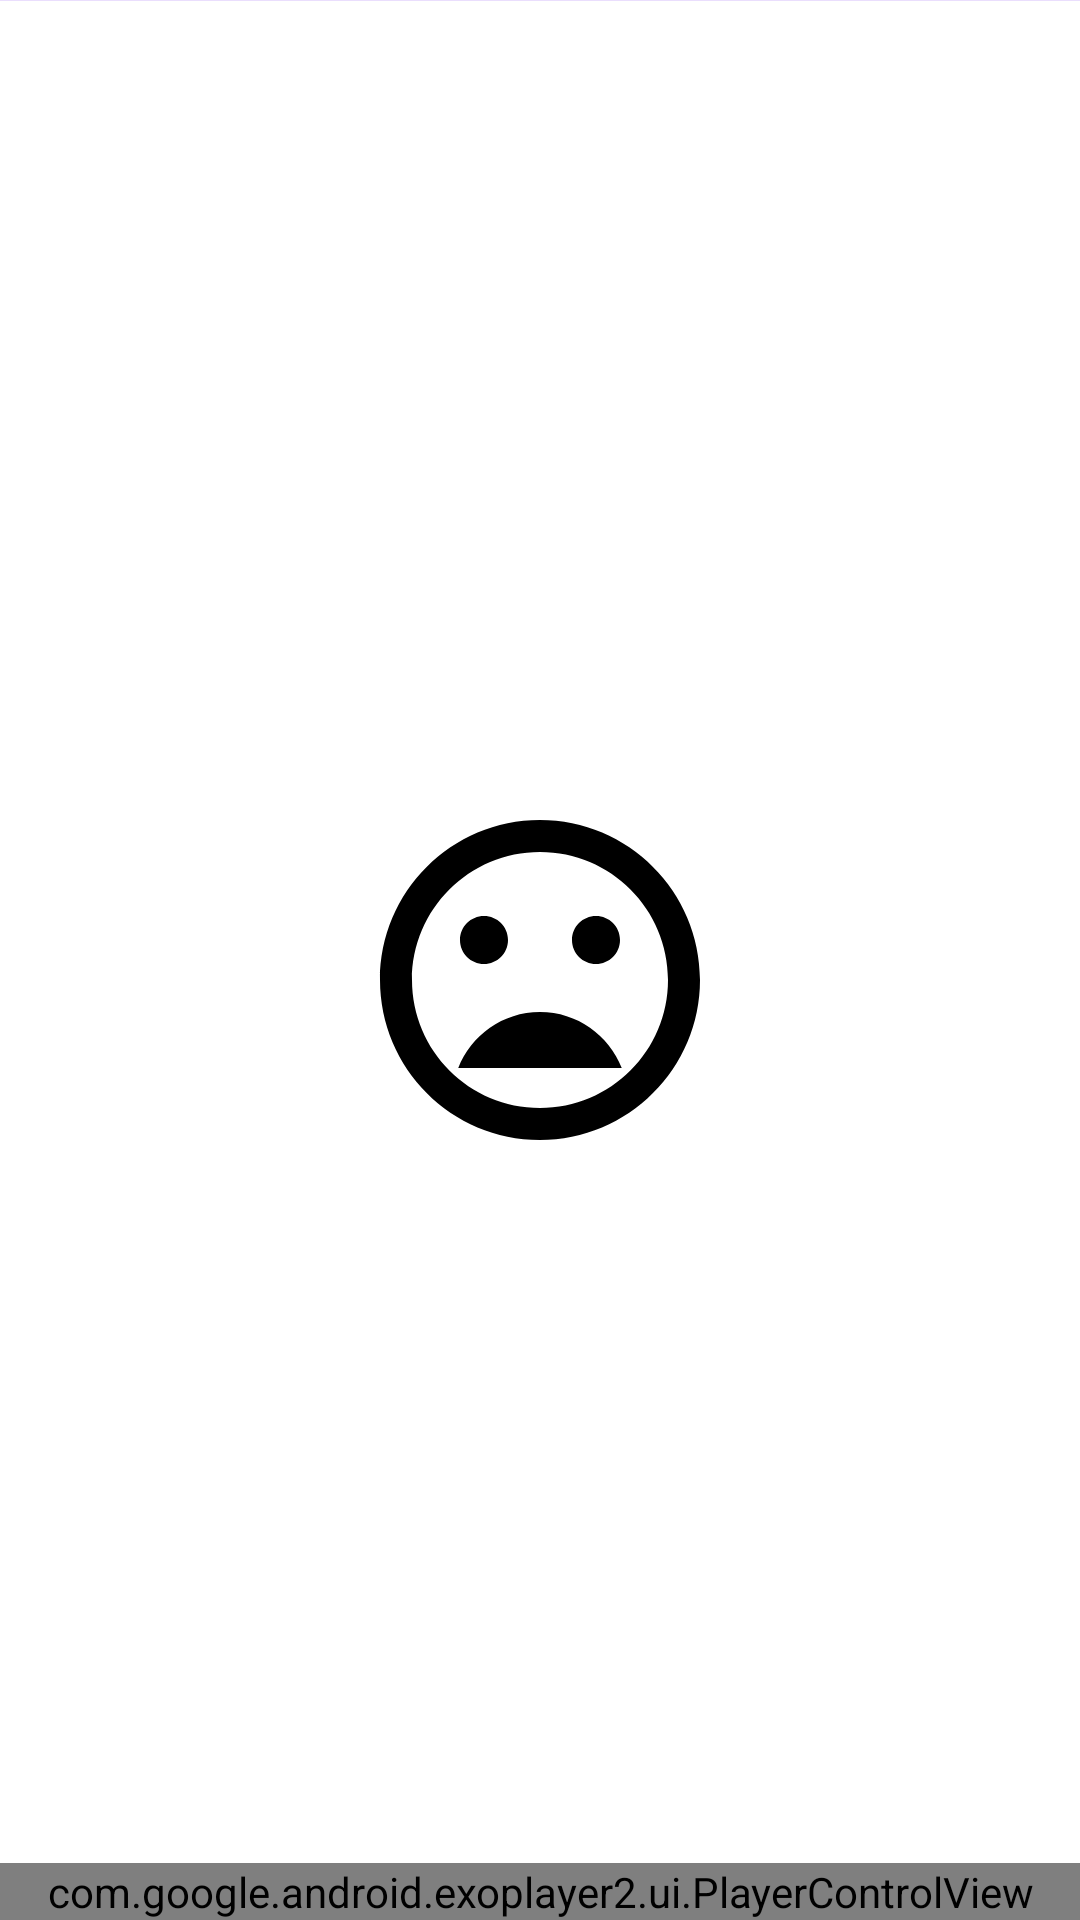

Locate icon controls on the screen. Image size 1080 x 1920, boxes as (x1, y1, x2, y2).
mood bad: (380, 820, 700, 1140)
